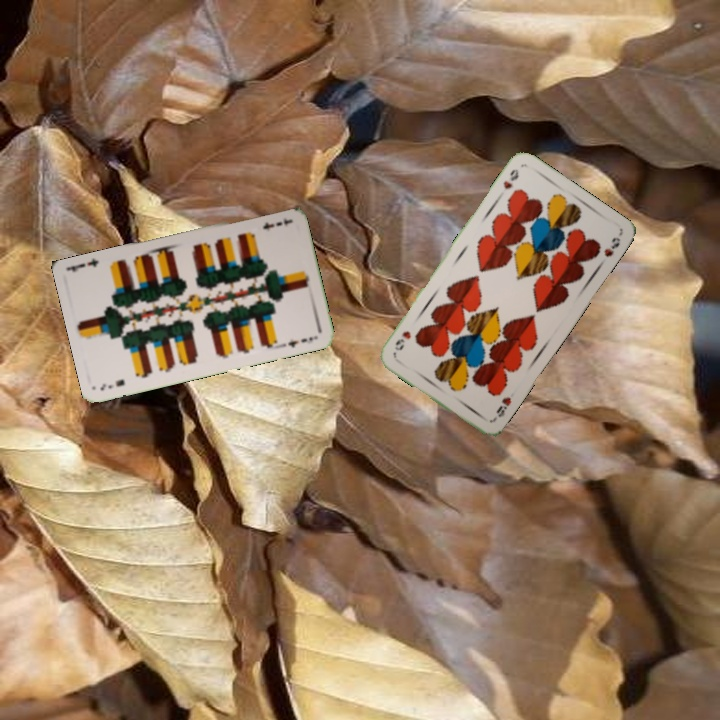E7: (96, 375, 127, 393), (259, 218, 285, 233)
H9: (489, 393, 514, 423), (499, 165, 521, 192)
